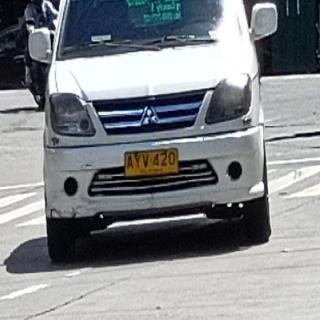license: (126, 149, 180, 178)
